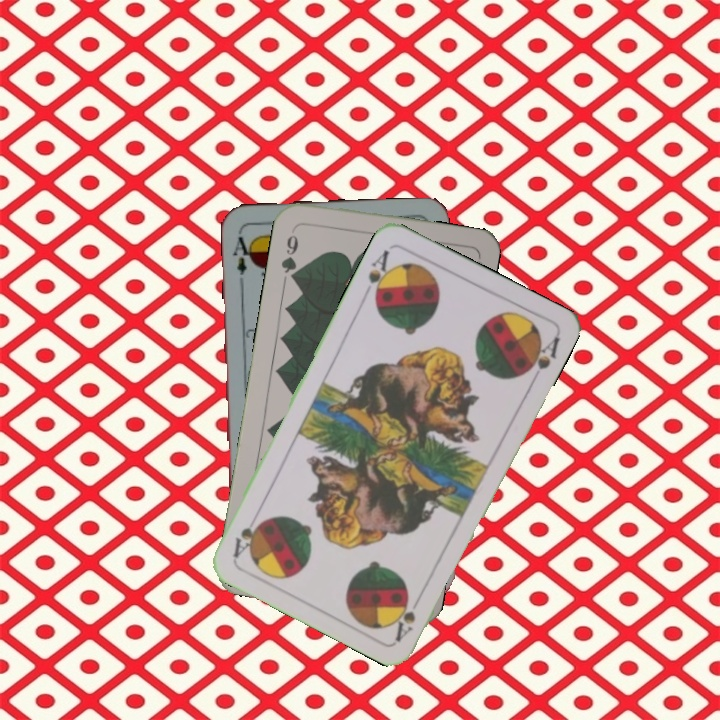EA: (228, 226, 256, 278)
G9: (277, 223, 301, 284)
SA: (359, 245, 396, 304), (391, 588, 426, 643)
